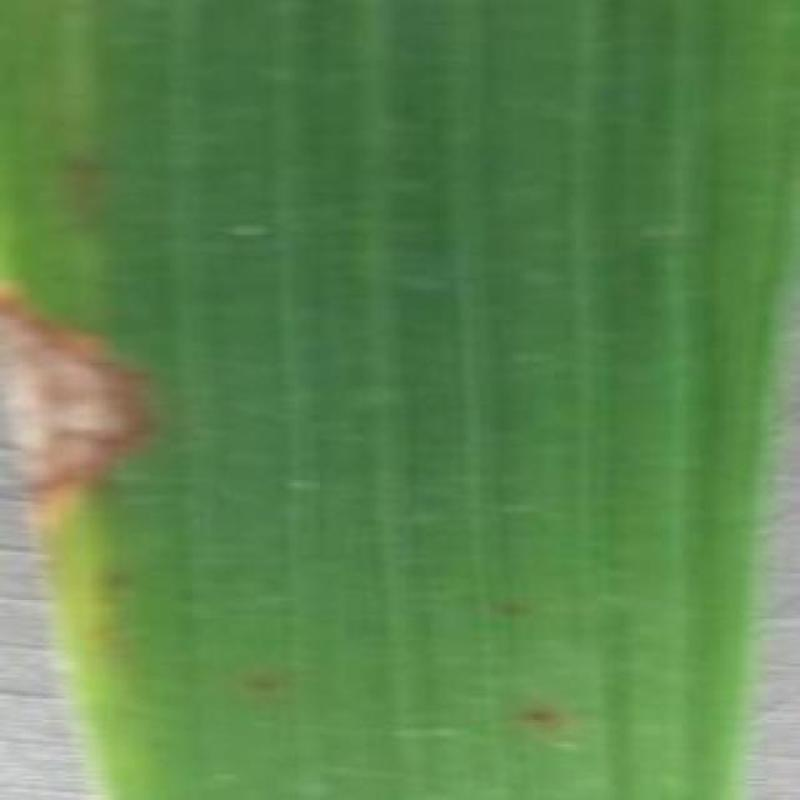Leaf_Blast: (0, 250, 165, 522)
